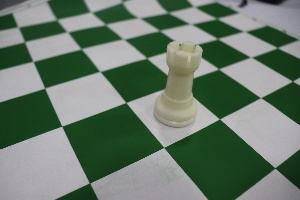white_rook: (148, 27, 203, 139)
